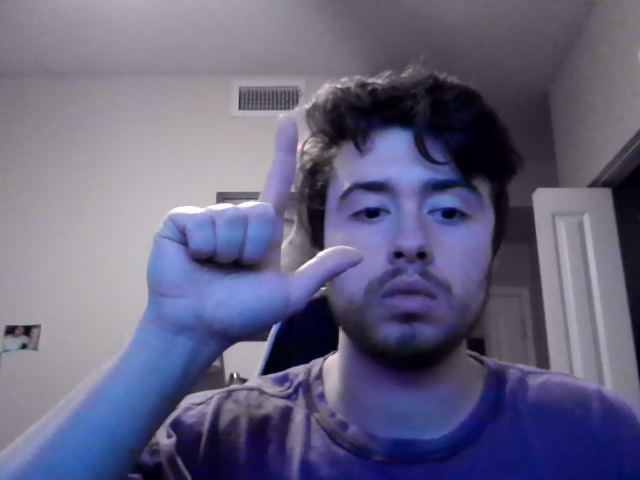l: (146, 113, 365, 372)
